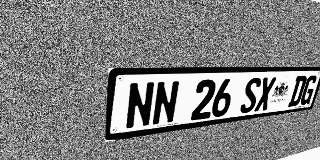2: (191, 79, 217, 121)
6: (210, 78, 236, 118)
D: (287, 76, 308, 107)
G: (299, 75, 318, 105)
N: (125, 81, 155, 130), (151, 81, 180, 126)
S: (239, 77, 262, 114)
X: (254, 77, 277, 112)
